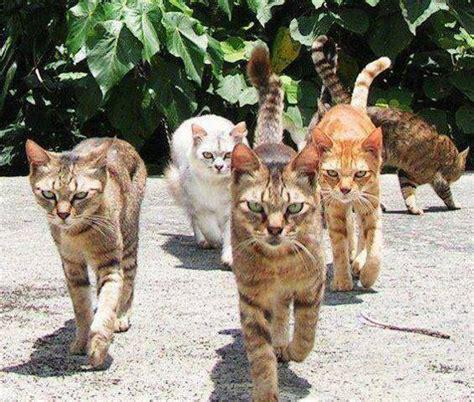cat: (229, 45, 323, 402), (26, 138, 147, 369), (312, 56, 389, 291), (166, 115, 248, 264), (366, 104, 467, 215)
